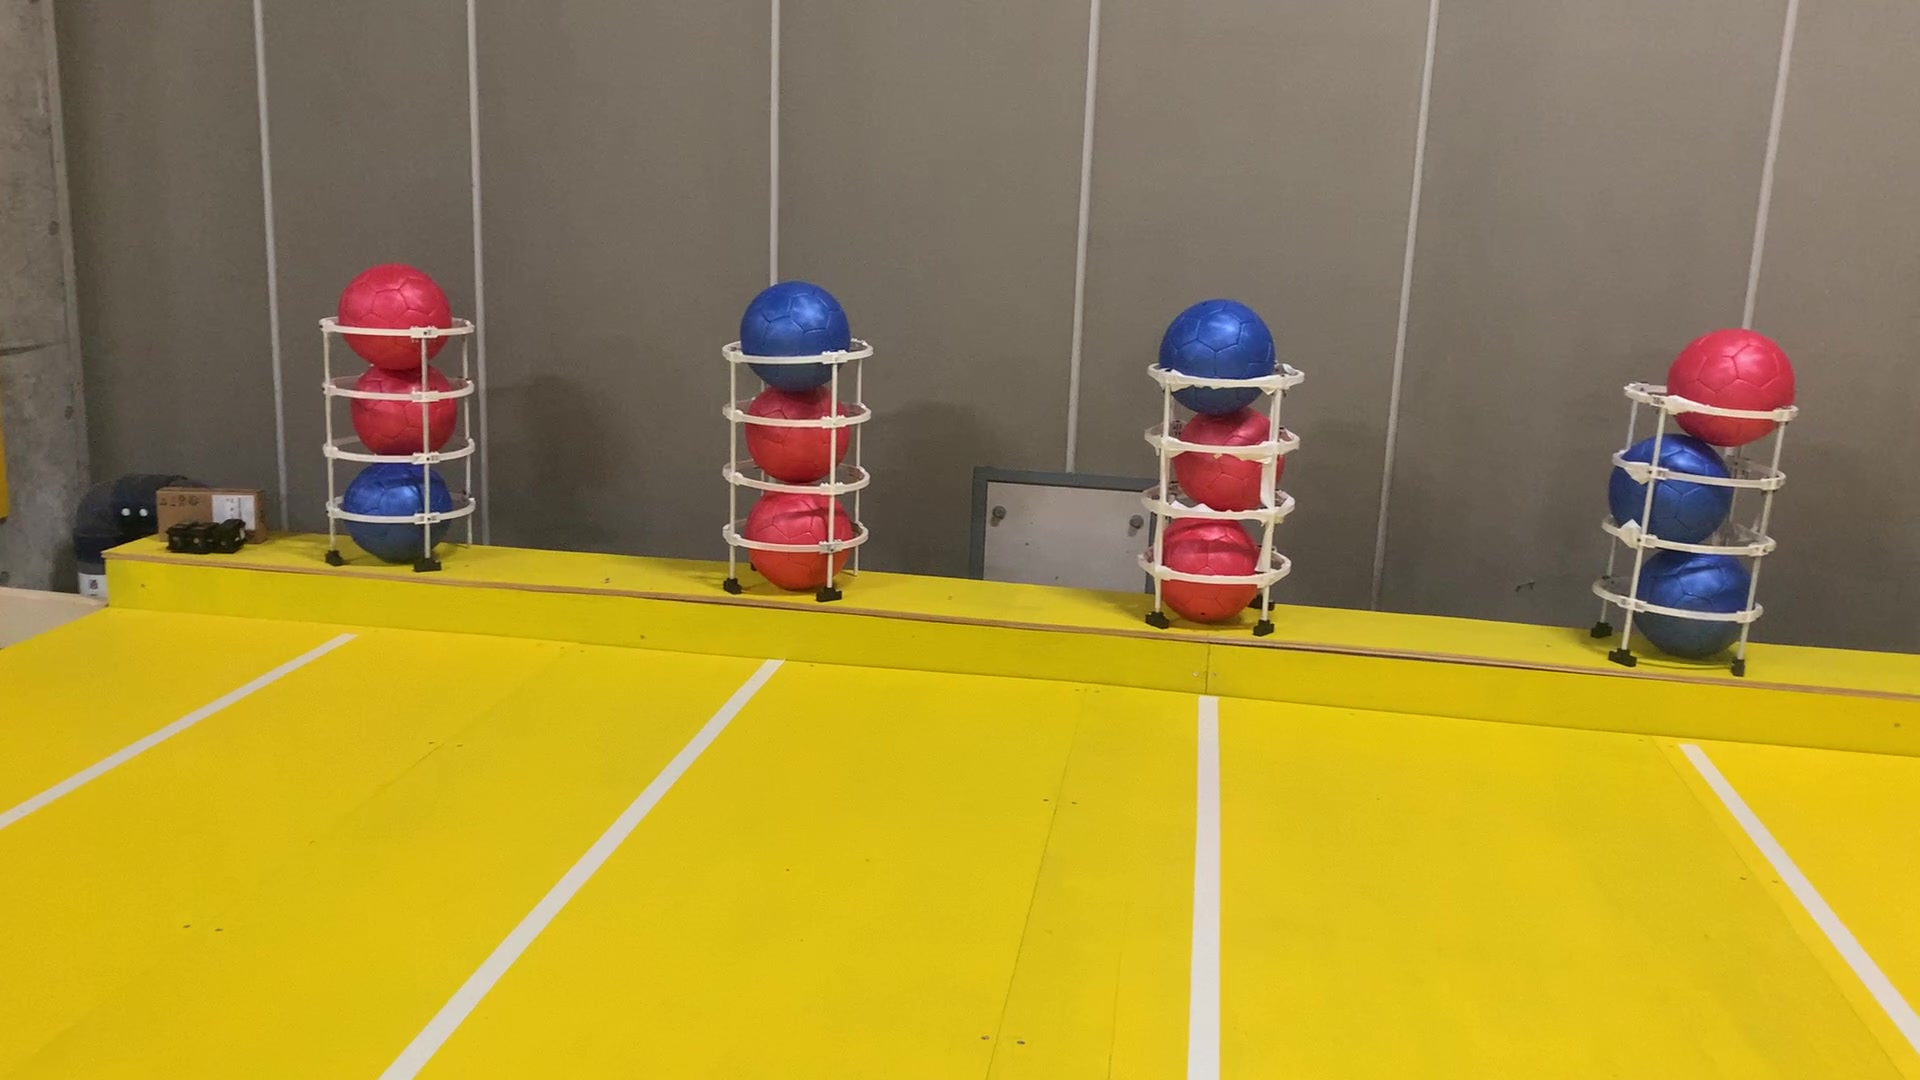blue: (1154, 291, 1286, 417), (1613, 427, 1742, 550), (1634, 530, 1756, 655), (732, 273, 856, 392), (342, 451, 455, 564)
red: (1663, 323, 1797, 452), (732, 480, 862, 599), (343, 355, 458, 468), (1145, 512, 1261, 624), (735, 382, 856, 489), (335, 264, 452, 373), (1171, 405, 1283, 517)
